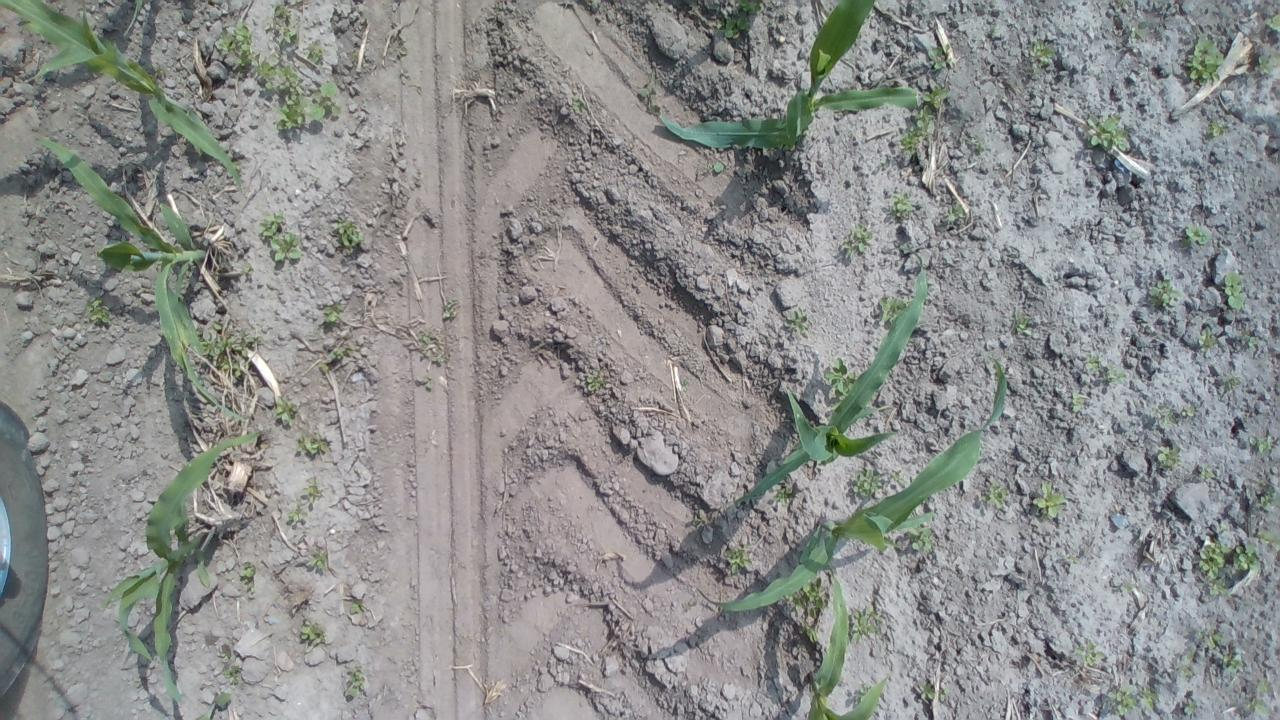Maize: (694, 352, 1013, 613), (36, 128, 262, 428), (722, 264, 932, 512), (102, 422, 269, 711), (2, 0, 250, 191), (652, 2, 924, 154), (796, 567, 895, 720)
Weeds: (1192, 514, 1280, 600), (256, 64, 346, 126), (196, 321, 263, 383), (269, 7, 332, 61), (1181, 31, 1228, 88), (1196, 628, 1244, 683), (260, 213, 309, 264), (412, 329, 452, 391), (214, 23, 264, 71), (793, 577, 827, 646), (822, 354, 867, 402), (1104, 682, 1160, 718), (1082, 108, 1126, 153), (1028, 474, 1068, 520), (1082, 352, 1134, 386), (915, 82, 958, 123), (897, 118, 937, 162), (1155, 396, 1201, 432), (921, 42, 964, 80), (849, 601, 885, 646), (1076, 642, 1116, 682), (904, 516, 940, 560), (845, 464, 888, 500), (873, 288, 913, 326), (836, 221, 874, 260), (318, 337, 354, 378), (1220, 266, 1247, 317), (722, 542, 758, 580), (1148, 276, 1184, 313), (912, 676, 954, 706), (332, 215, 370, 248), (977, 476, 1011, 512), (780, 304, 811, 342), (712, 15, 752, 44), (1180, 216, 1214, 249), (317, 300, 352, 332), (304, 542, 336, 577), (292, 429, 332, 457), (1240, 677, 1268, 717), (1029, 32, 1055, 75), (885, 186, 917, 219), (1173, 649, 1206, 680), (82, 296, 118, 324), (1155, 440, 1186, 472), (296, 616, 329, 646), (1251, 48, 1280, 81), (272, 393, 302, 424), (296, 475, 326, 505), (1246, 429, 1276, 459), (1064, 385, 1092, 416), (940, 199, 971, 227), (204, 690, 234, 718), (346, 667, 370, 701), (1175, 690, 1204, 718), (284, 503, 314, 530), (1258, 480, 1278, 520), (434, 297, 464, 323), (1194, 324, 1218, 356), (966, 127, 990, 158), (584, 366, 612, 392), (236, 559, 262, 586), (1218, 370, 1240, 400), (636, 80, 658, 109), (1057, 551, 1082, 576), (1206, 116, 1230, 140), (347, 592, 371, 615), (222, 662, 242, 688), (1012, 310, 1037, 330), (1196, 460, 1216, 485), (568, 94, 590, 116), (1261, 11, 1280, 36), (1127, 19, 1146, 41), (707, 158, 729, 176), (1115, 580, 1139, 596), (774, 488, 794, 507), (239, 261, 257, 281), (1242, 330, 1260, 350)
